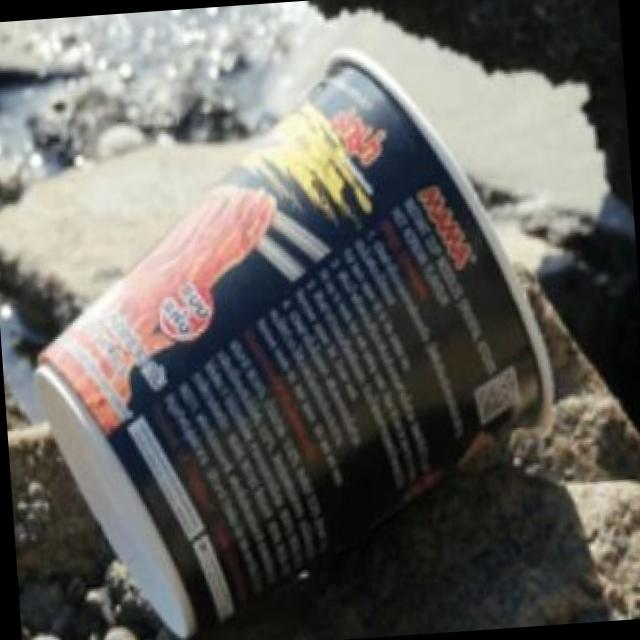electronic: (9, 31, 570, 640)
